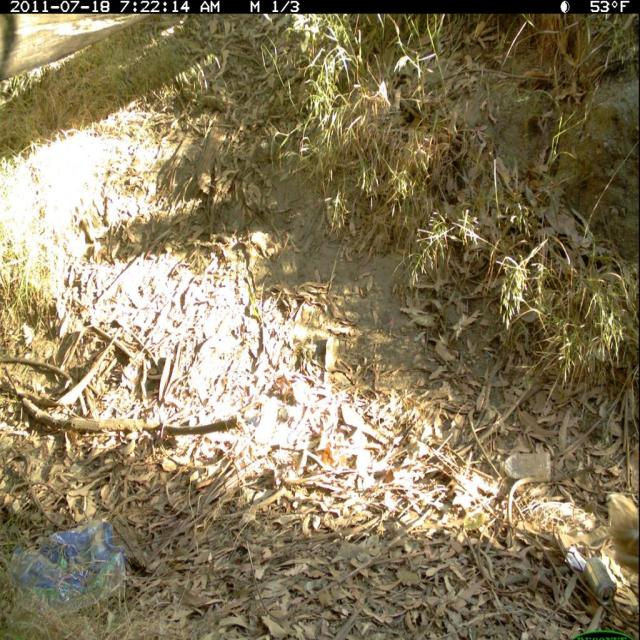bird: (601, 484, 639, 584)
